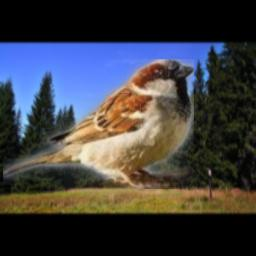Sparrow: (3, 59, 194, 189)
